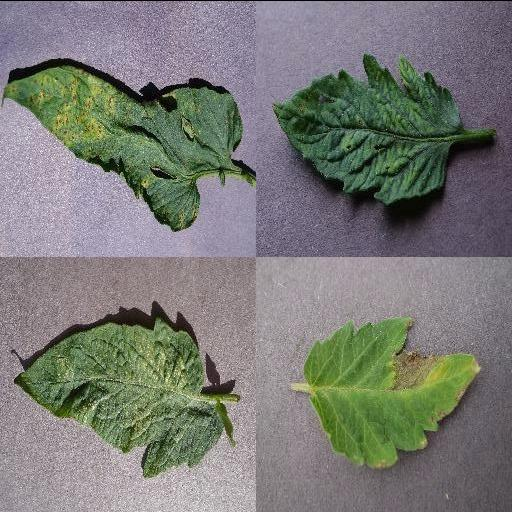Late Blight: (302, 315, 482, 467)
Mosaic Virus: (271, 50, 465, 206)
Septoria: (2, 64, 244, 232)
Spider Mites: (19, 314, 225, 476)
